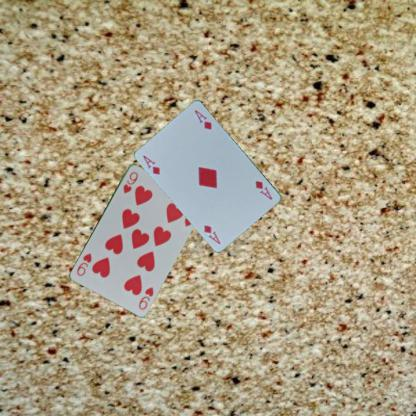9h: (136, 284, 155, 311), (120, 168, 139, 194)
Ad: (140, 152, 162, 176), (253, 178, 274, 201)
